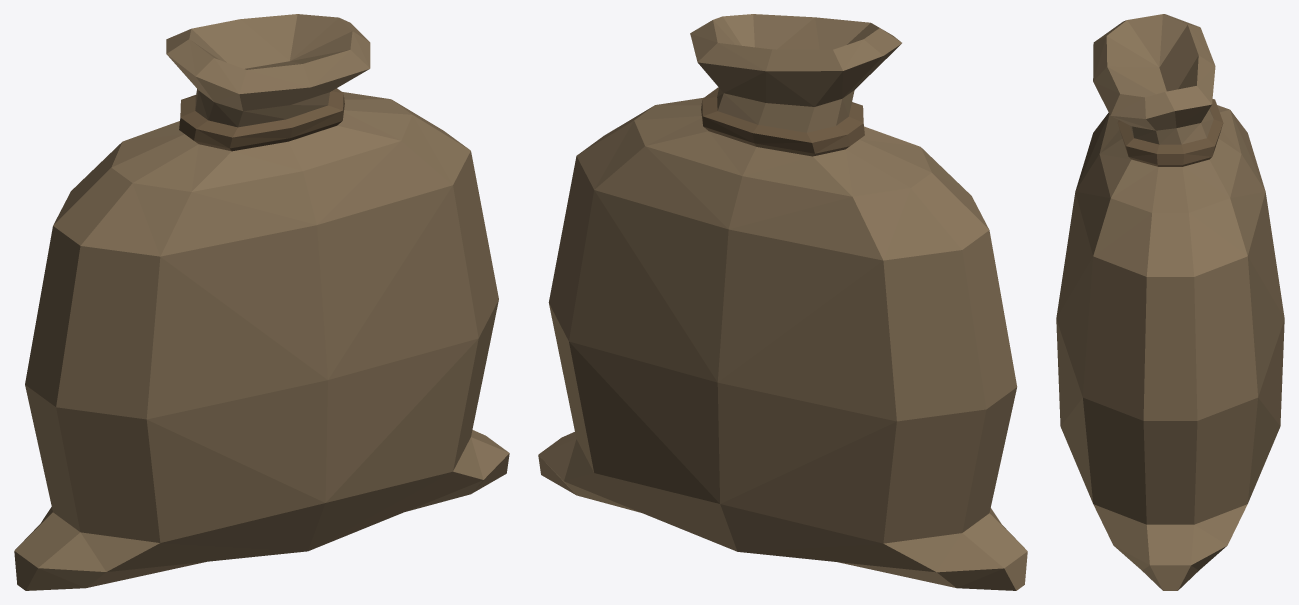
Rendered from sack_b.glb.
The picture shows the model from 3 angles, left to right: view 1: azimuth 30°, elevation 25°; view 2: azimuth 150°, elevation 25°; view 3: azimuth 270°, elevation 25°; orthographic projection. The views are drawn at different scales.
Visible parts, largest first — view 1: SM_Prop_Sack_02; view 2: SM_Prop_Sack_02; view 3: SM_Prop_Sack_02.
Boxes of the visible parts, <box> form: SM_Prop_Sack_02: <box>14,14,509,590</box>; SM_Prop_Sack_02: <box>538,14,1027,590</box>; SM_Prop_Sack_02: <box>1056,14,1284,590</box>.
Size of the model in its own units: 49.67 by 51.01 by 23.62.
Materials: 1 (1 with a texture image).
